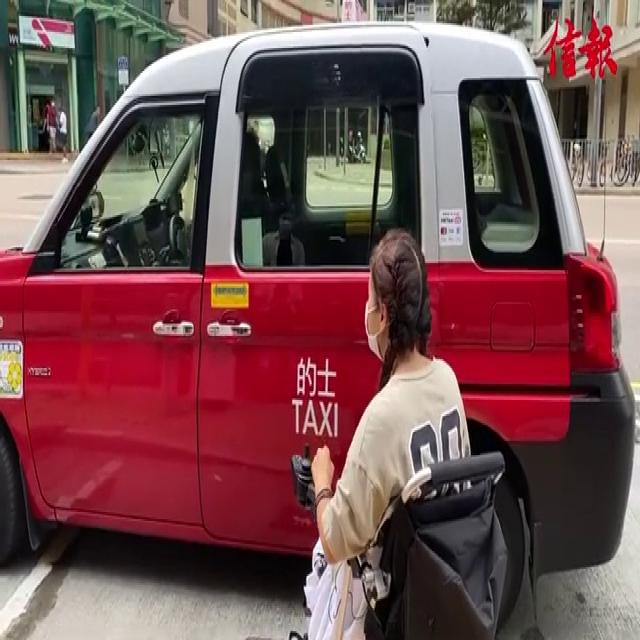wheelchairs: (290, 393, 533, 640)
